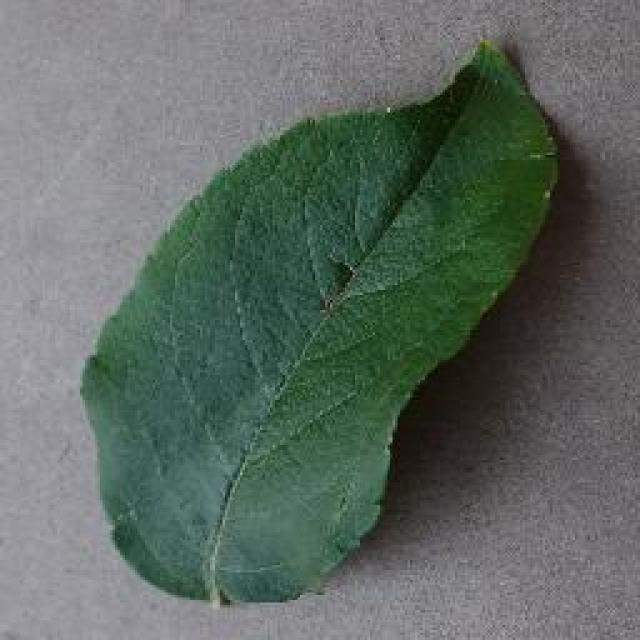apple healthy: (78, 35, 562, 607)
